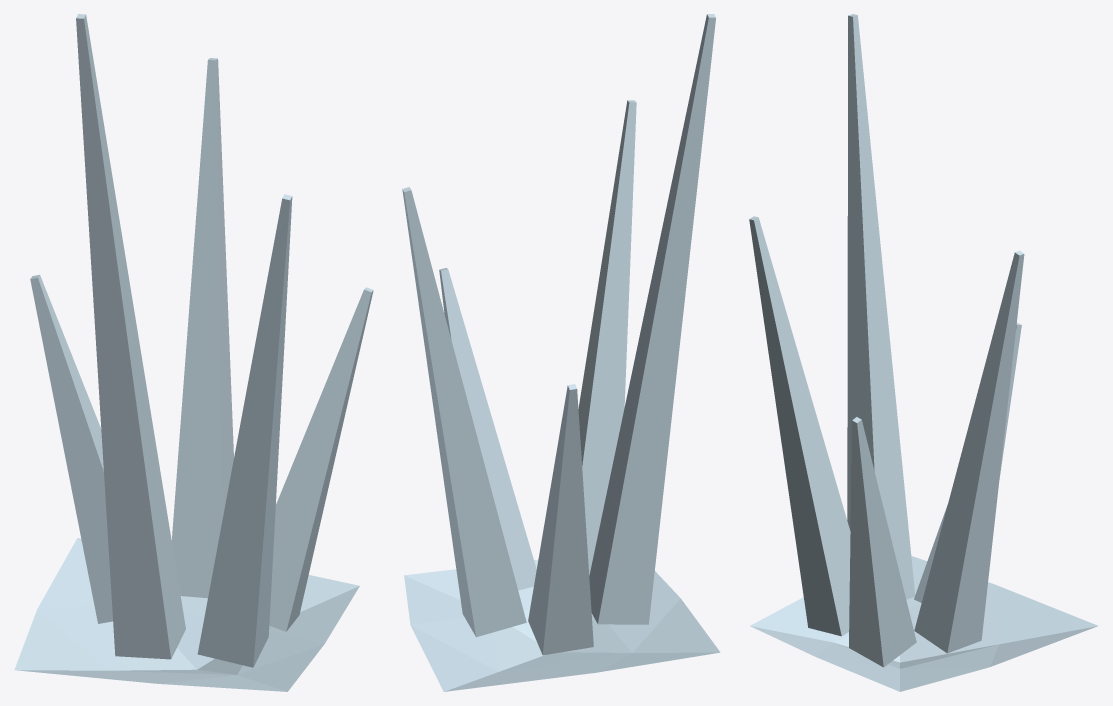
The model's file is ice_shard_v14.glb.
3 renders of one model, left to right at view 1: azimuth 30°, elevation 25°; view 2: azimuth 150°, elevation 25°; view 3: azimuth 270°, elevation 25°, orthographic. The views are drawn at different scales.
Parts seen in each view (by area): view 1: lod0; view 2: lod0; view 3: lod0.
Boxes of the visible parts, x1,y1,x2,y2 form: lod0: (14,14,373,691); lod0: (402,14,720,691); lod0: (749,14,1097,691).
Size of what is drawn, in the model's own units: 0.6799 by 1.33 by 0.7174.
